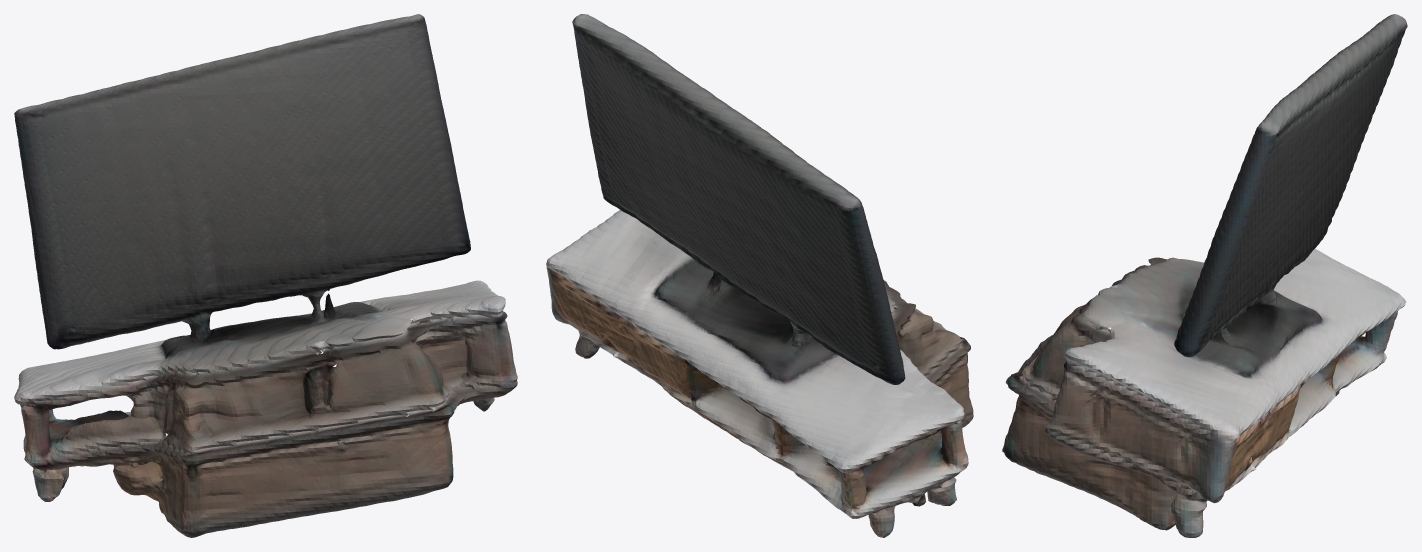
The picture shows the model from 3 angles, left to right: view 1: azimuth 30°, elevation 25°; view 2: azimuth 150°, elevation 25°; view 3: azimuth 270°, elevation 25°; orthographic projection. The views are drawn at different scales.
Parts seen in each view (by area): view 1: geometry_0; view 2: geometry_0; view 3: geometry_0.
Boxes of the visible parts, left/top/right/bottom form: geometry_0: left=14, top=14, right=517, bottom=537; geometry_0: left=546, top=14, right=973, bottom=537; geometry_0: left=1002, top=14, right=1407, bottom=537.
Size of the model in its own units: 1.01 by 0.9309 by 0.7509.
